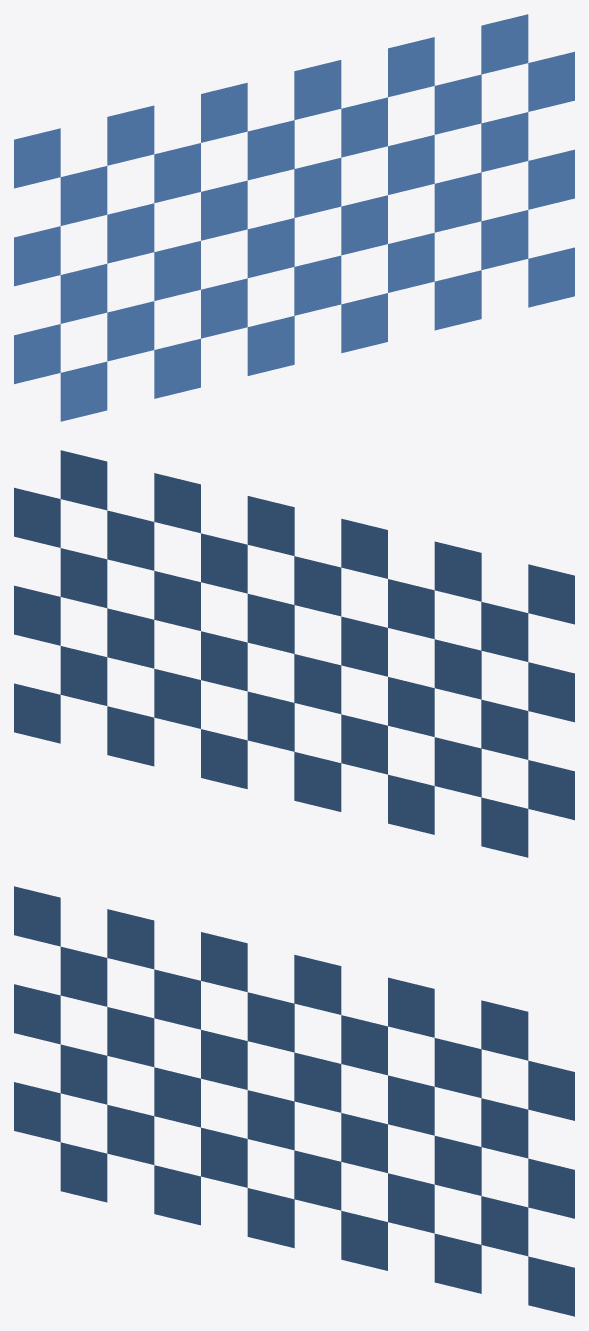
Rendered from pattern-1.gltf.
The picture shows the model from 3 angles, top to bottom: view 1: azimuth 30°, elevation 25°; view 2: azimuth 150°, elevation 25°; view 3: azimuth 330°, elevation 25°; orthographic projection.
Bounding box in the file's own units: 6.6 × 3.3 × 0.
